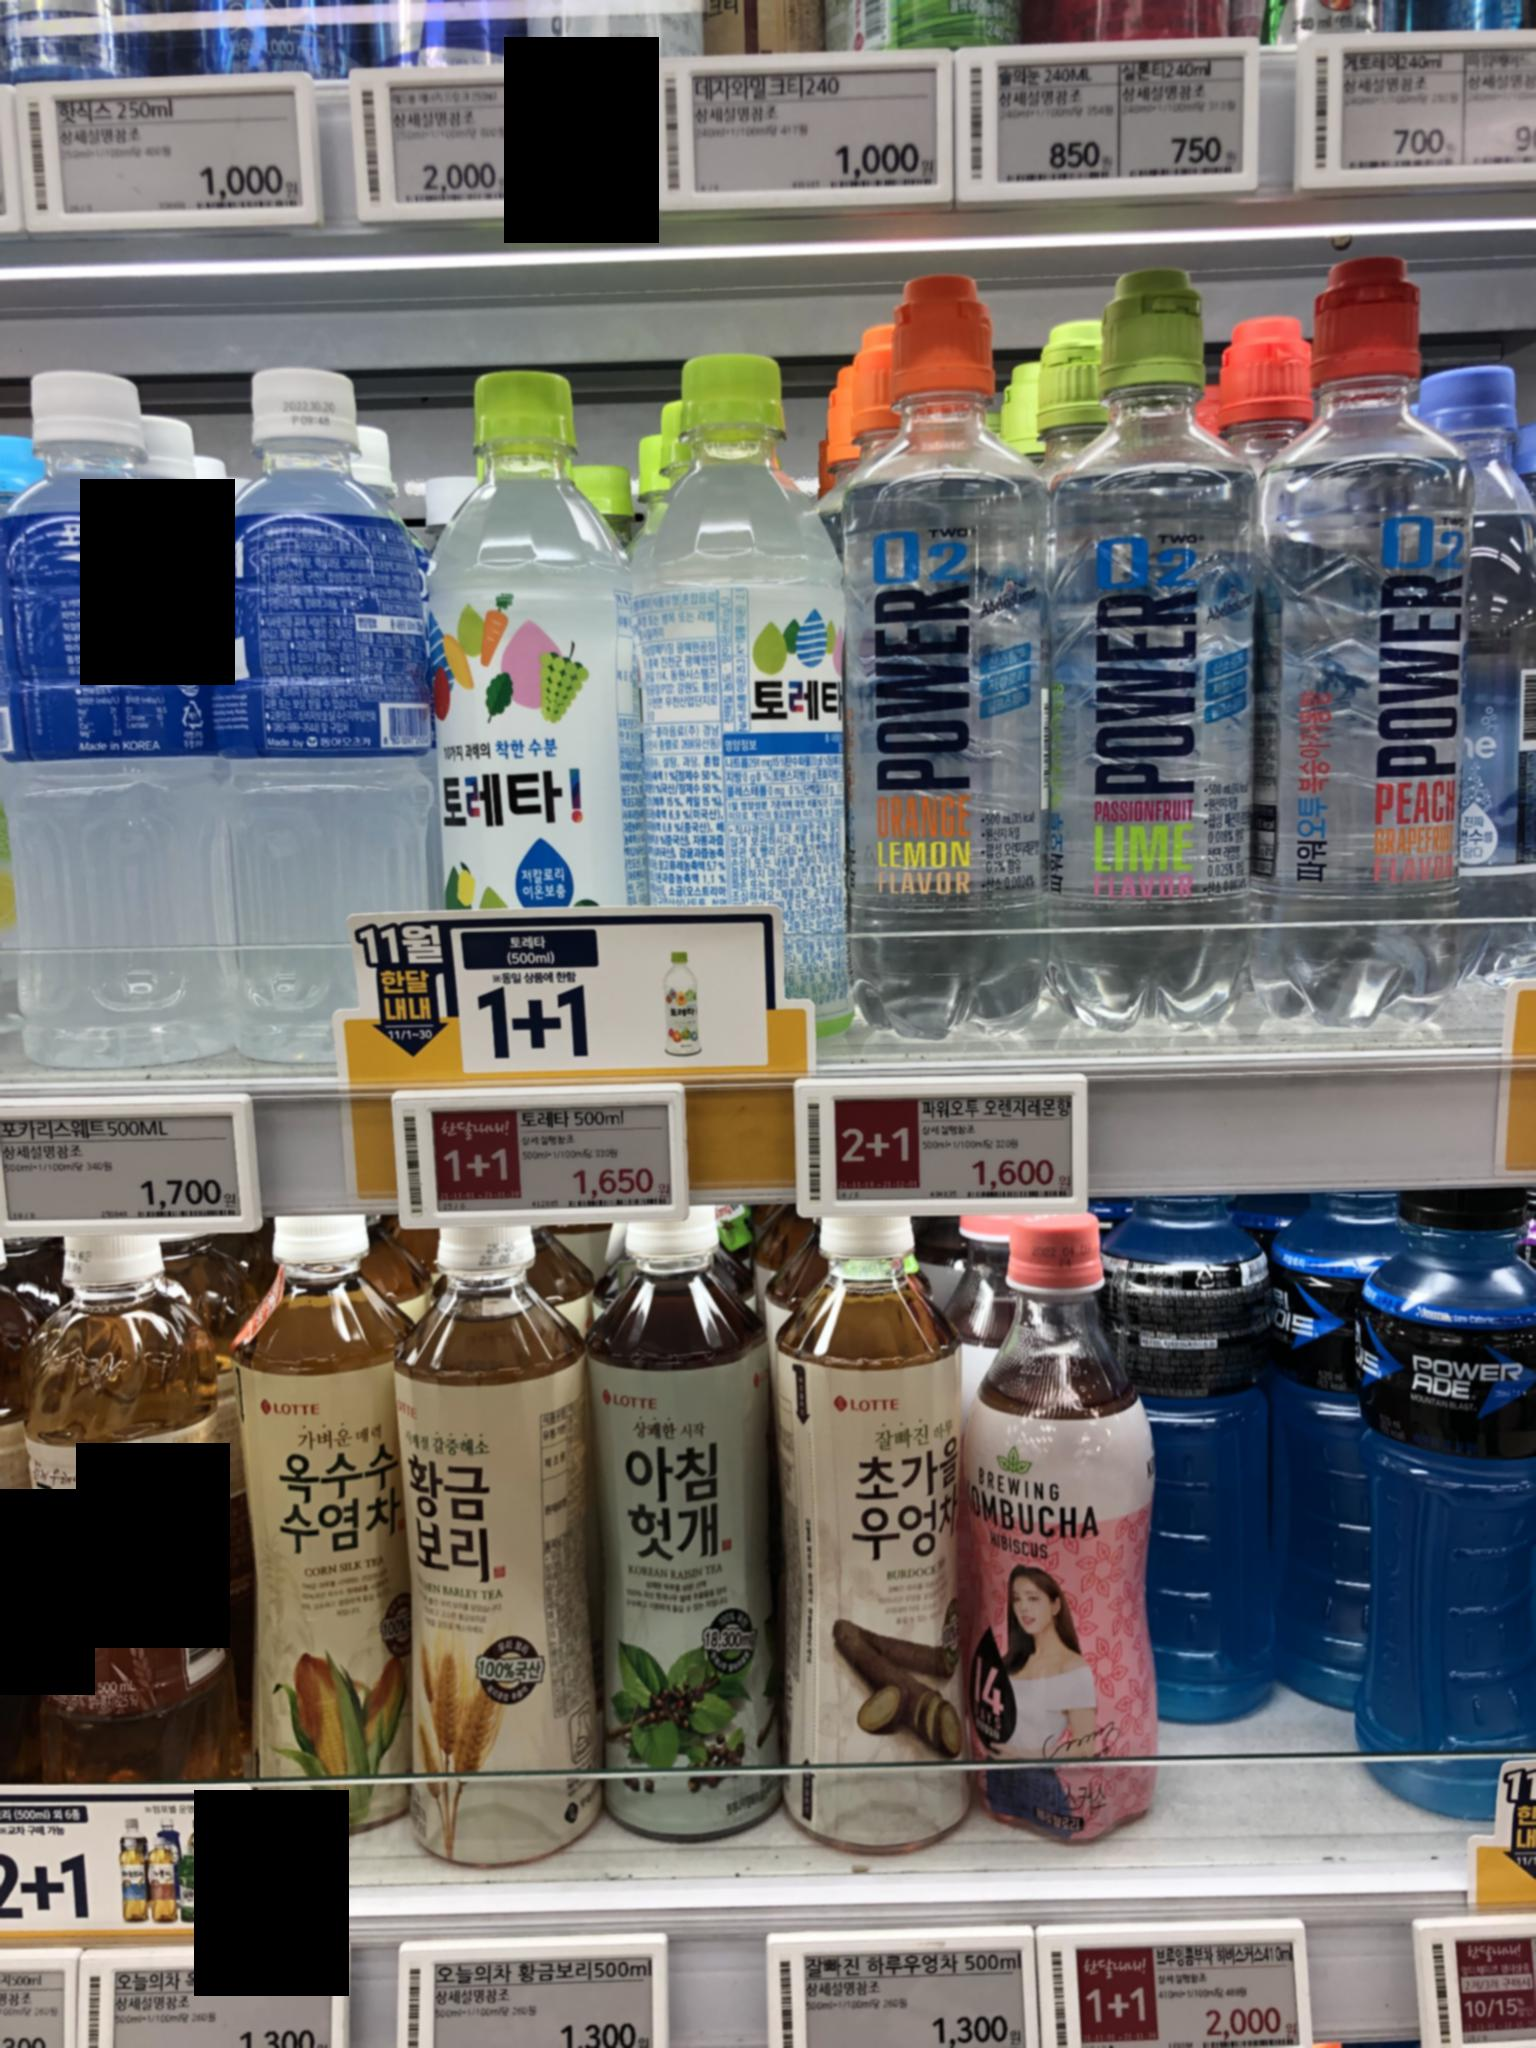pocarisweat: (0, 345, 227, 1100), (215, 340, 444, 1059)
powerO2_orange: (824, 264, 1068, 1068)
powerade_mountainblast: (1110, 1184, 1325, 1729), (1373, 1203, 1534, 1859)
toreta: (642, 361, 850, 1074), (418, 340, 650, 921)
